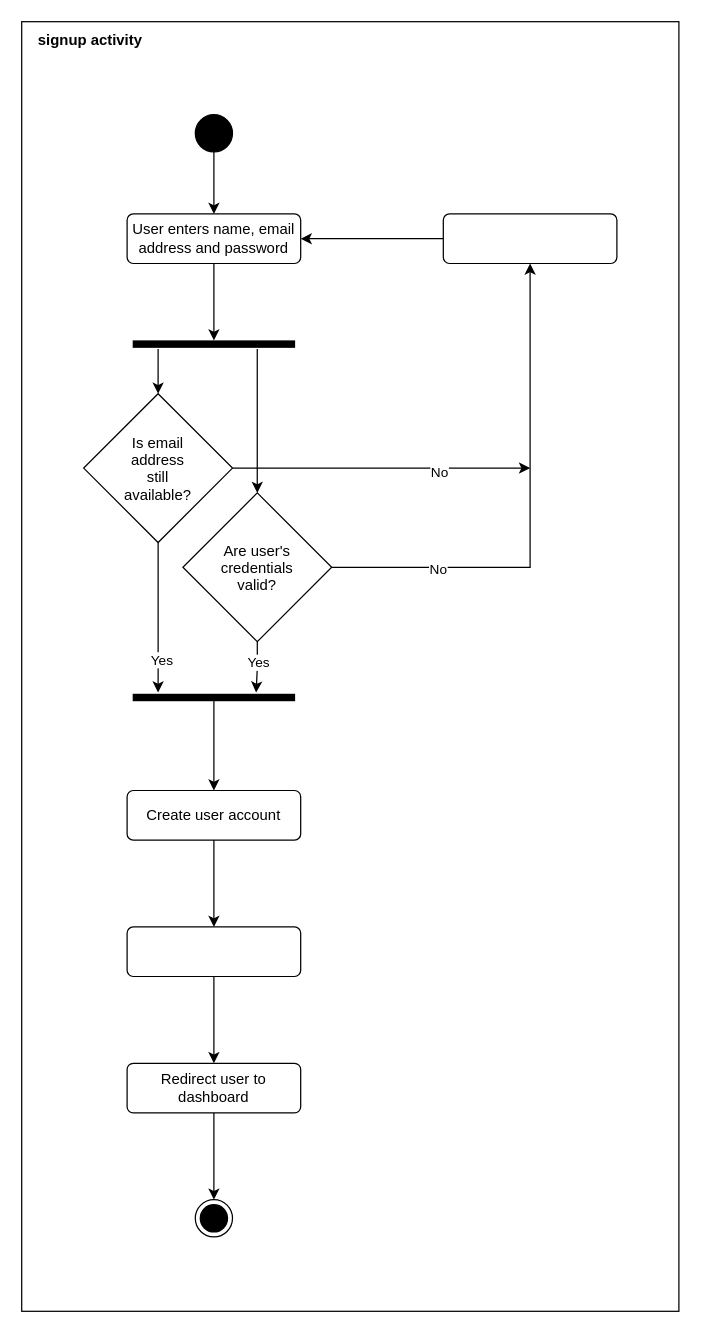
Image size: 701x1333. Some labels were removed from this diagram. The shapes that lost their labels are listed below. From the top down, each one's centre as x and y in pixels, then its label:
[529,238]: Show error message
[213,951]: Signin user
